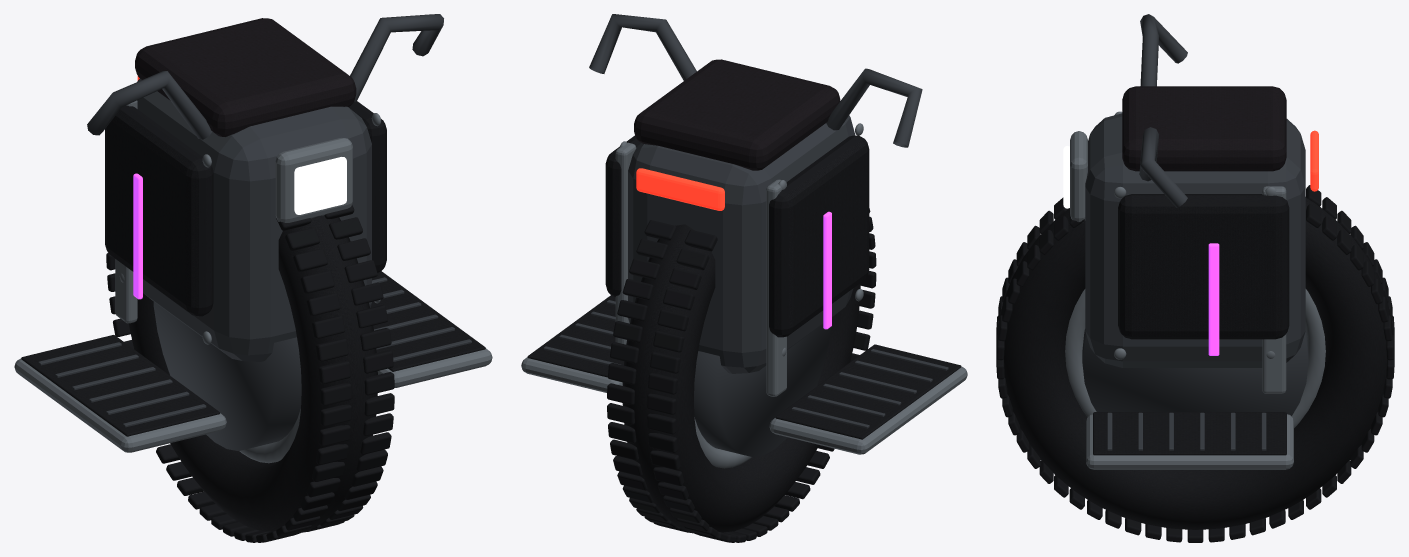
File: circuit-euc.glb
3 views of the same model, side by side, from view 1: azimuth 30°, elevation 25°; view 2: azimuth 150°, elevation 25°; view 3: azimuth 270°, elevation 25° (orthographic). The views are drawn at different scales.
Visible parts, largest first — view 1: EUC_Housing, Wheel_Pivot, EUC_Pedals, EUC_Lights, EUC_Carry_handles; view 2: EUC_Housing, Wheel_Pivot, EUC_Pedals, EUC_Carry_handles, EUC_Lights; view 3: Wheel_Pivot, EUC_Housing, EUC_Pedals, EUC_Carry_handles, EUC_Lights.
Boxes of the visible parts, x1,y1,x2,y2 form: EUC_Housing: [105, 18, 386, 361]; Wheel_Pivot: [106, 205, 394, 542]; EUC_Pedals: [14, 271, 492, 452]; EUC_Lights: [137, 76, 352, 222]; EUC_Carry_handles: [87, 14, 443, 139]; EUC_Housing: [605, 59, 869, 396]; Wheel_Pivot: [607, 208, 876, 542]; EUC_Pedals: [521, 295, 967, 454]; EUC_Carry_handles: [589, 14, 922, 147]; EUC_Lights: [636, 168, 724, 210]; Wheel_Pivot: [996, 185, 1394, 542]; EUC_Housing: [1085, 86, 1305, 393]; EUC_Pedals: [1086, 412, 1293, 469]; EUC_Carry_handles: [1139, 14, 1187, 207]; EUC_Lights: [1063, 130, 1318, 222].
Bounding box in the file's own units: 0.569 × 0.7224 × 0.5811.
Materials: 7 (2 with a texture image).
